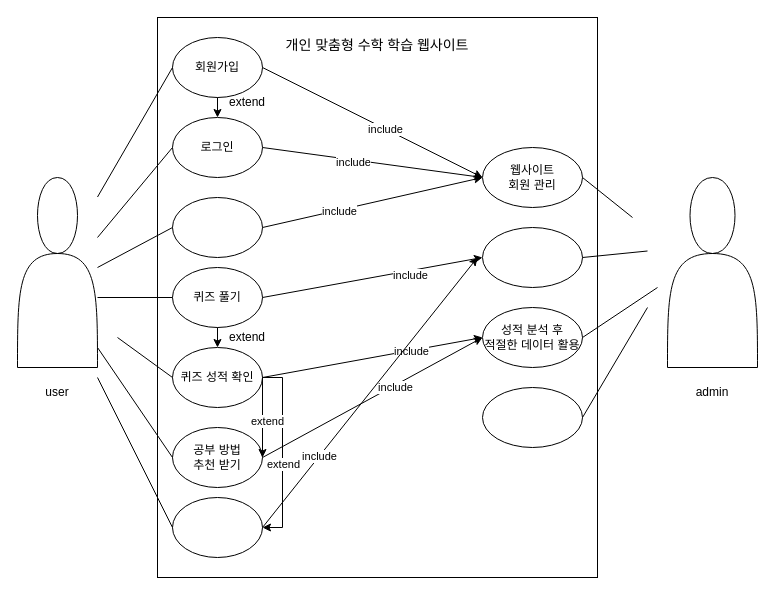
Some shapes in this 775 by 595 pixel diagram are drawn without their labels. The centre of each missing label's shape, as x and y in pixels:
교재 추천 받기: [217,527]
시스템 모니터링: [532,417]
퀴즈 문제 및 교재 목록 관리: [532,257]
프로필 수정: [217,227]
